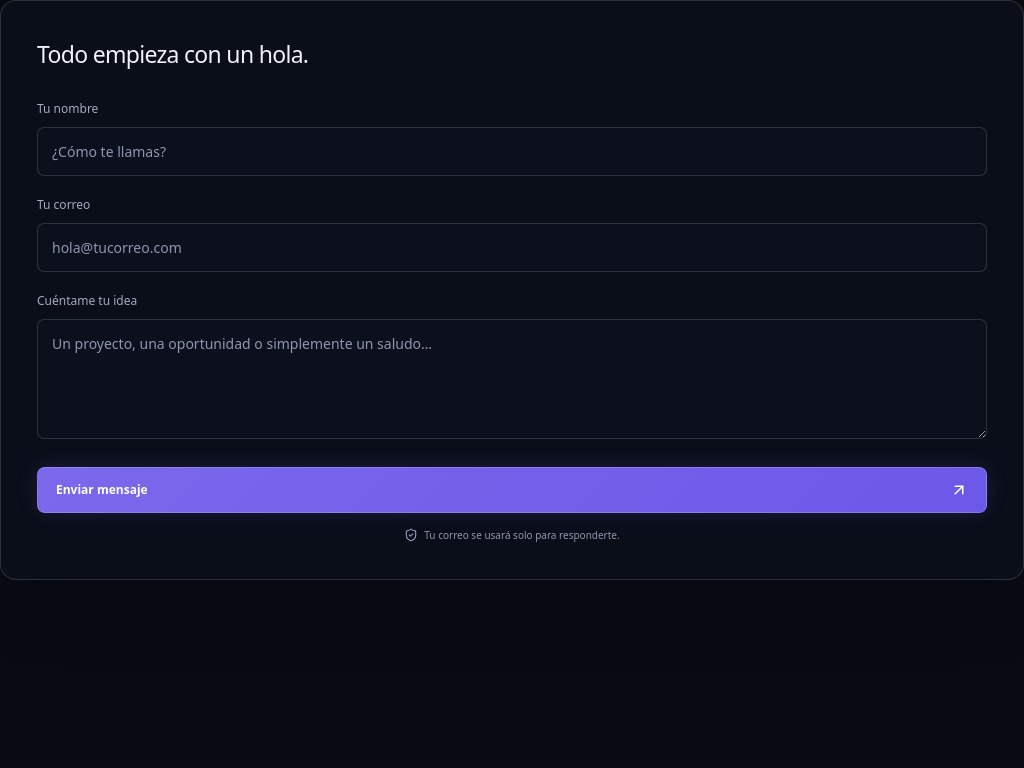
Test: ContactForm › shows a successful result after the injected service completes
Type "Andrea" into the field labelled "Tu nombre" at (512,151), box [37,126,987,176]
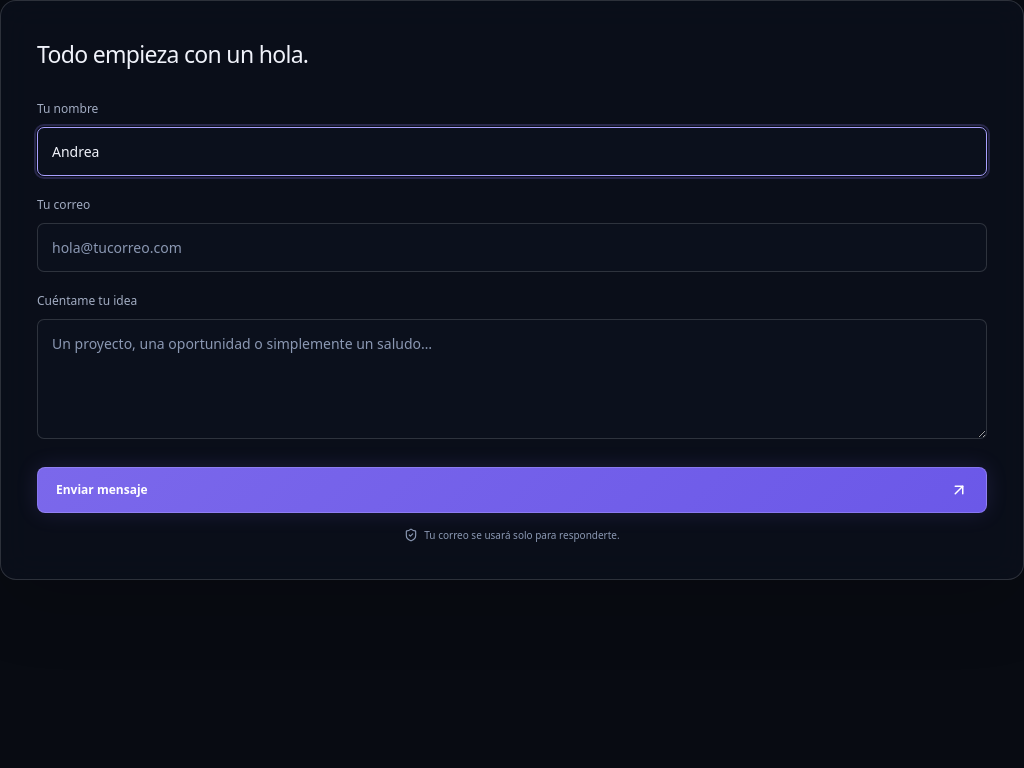
Type "andrea@example.com" into the field labelled "Tu correo" at (512,247), box [37,222,987,272]
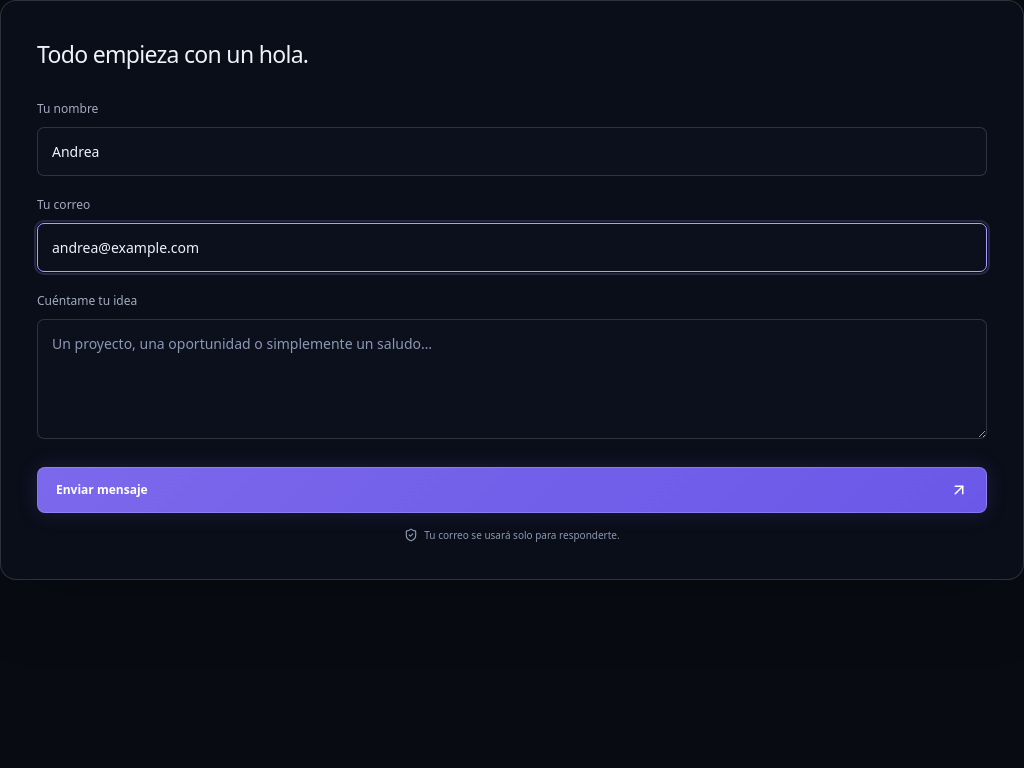
Type "Me gustaría construir una aplicación web." into the text box labelled "Cuéntame tu idea" at (512,378), box [37,318,987,438]
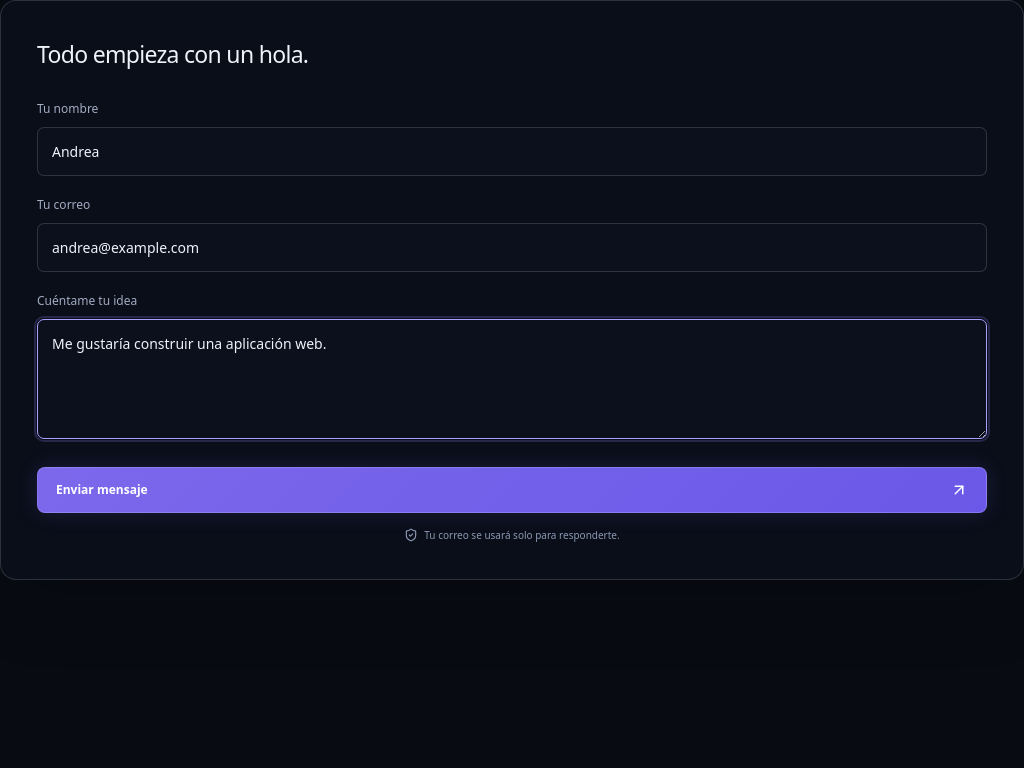
Click the button "Enviar mensaje" at (102,489), box [37,466,987,512]
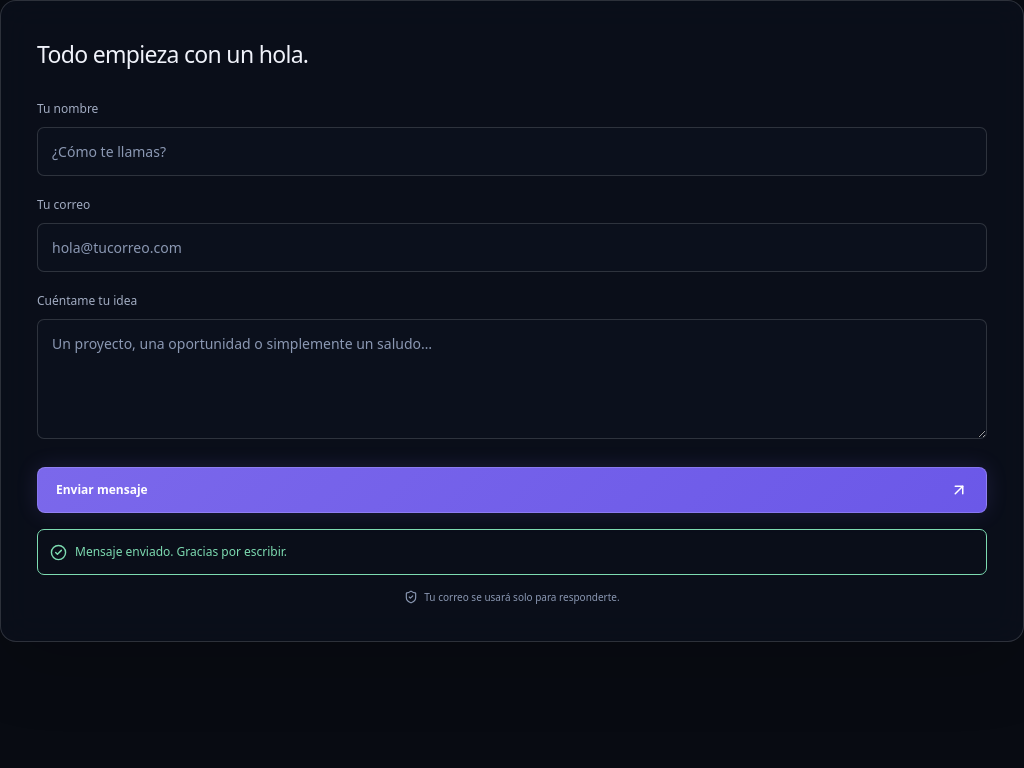
Check: the message shows "Mensaje enviado", box [75,542,287,560]
Check: the field labelled "Tu nombre" is empty, box [37,126,987,176]
